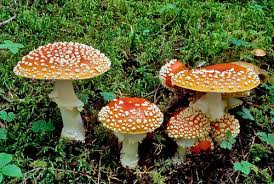Amanita muscaria: (11, 36, 112, 134), (152, 46, 262, 101), (96, 94, 164, 156), (166, 106, 208, 146), (210, 112, 244, 152)
